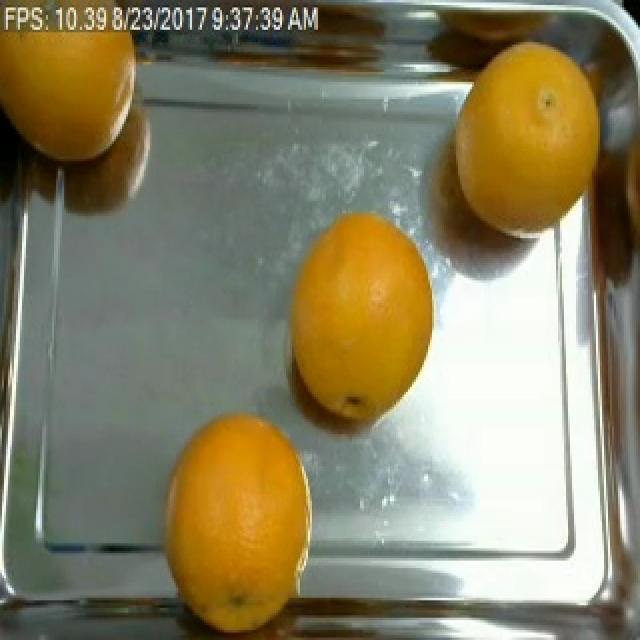Fruit: (272, 193, 444, 394), (0, 8, 140, 174), (600, 0, 640, 67)
